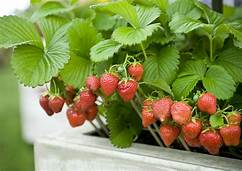Fresa: (197, 126, 225, 156), (116, 76, 140, 106), (193, 90, 218, 116), (218, 122, 242, 149), (158, 123, 181, 149), (98, 70, 119, 98), (77, 88, 98, 115), (38, 91, 57, 119), (126, 60, 145, 84), (140, 105, 158, 130), (47, 93, 65, 114)
